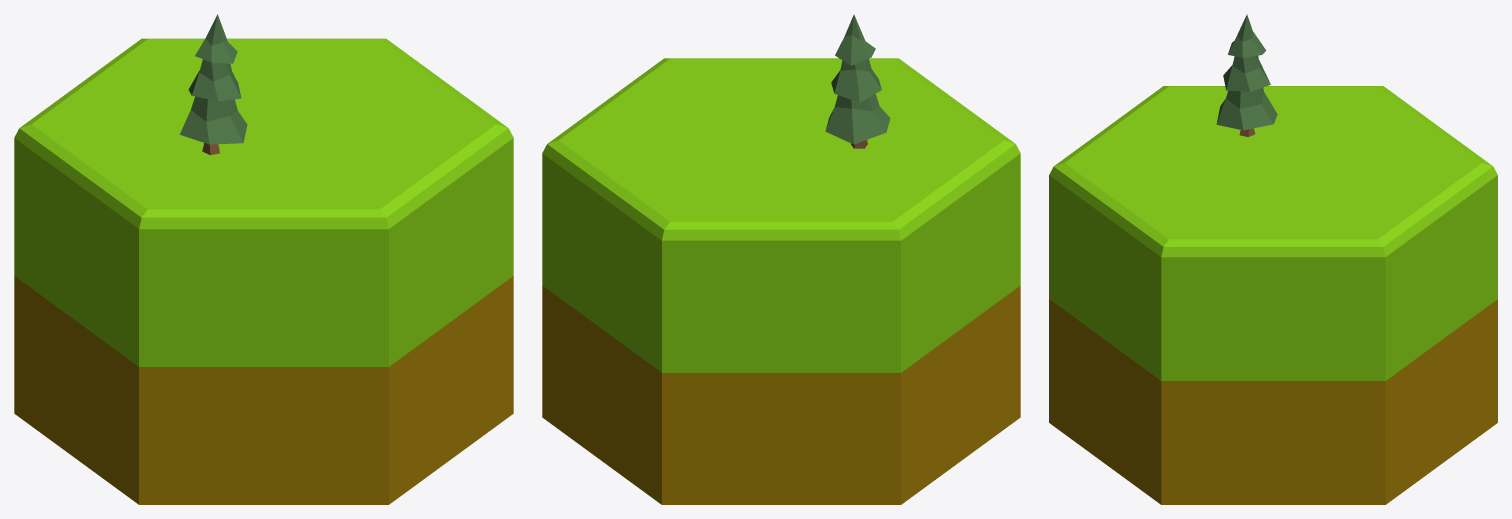
Rendered from Hex Tile SingleTree 02.glb.
3 views of the same model, side by side, from view 1: azimuth 30°, elevation 25°; view 2: azimuth 150°, elevation 25°; view 3: azimuth 270°, elevation 25° (orthographic). The views are drawn at different scales.
Parts seen in each view (by area): view 1: Hex.Tile.SingleTree; view 2: Hex.Tile.SingleTree; view 3: Hex.Tile.SingleTree.
Part boxes in pixels (x1=…): Hex.Tile.SingleTree: x1=14, y1=14, x2=513, y2=504; Hex.Tile.SingleTree: x1=542, y1=14, x2=1020, y2=504; Hex.Tile.SingleTree: x1=1049, y1=14, x2=1497, y2=504.
Bounding box in the file's own units: 1.73 × 1.88 × 2.
Materials: 1 (1 with a texture image).
